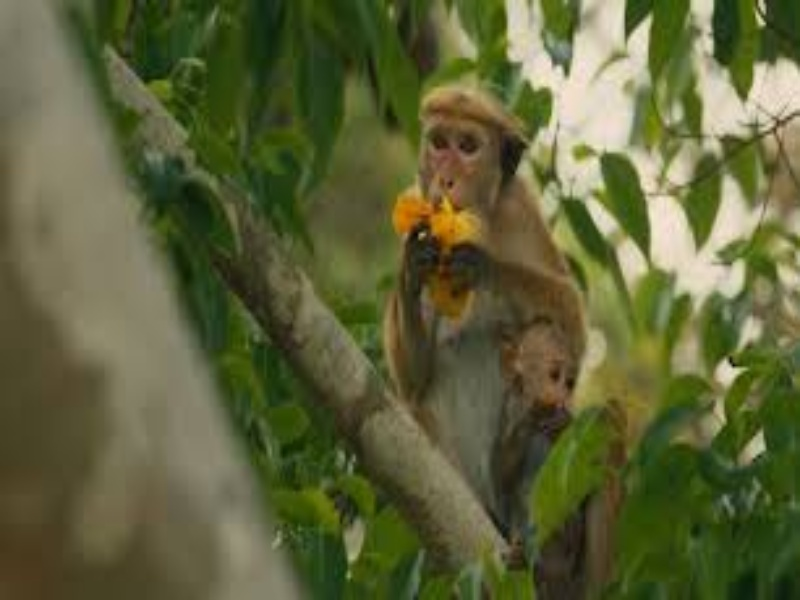monkey: (307, 51, 643, 558)
